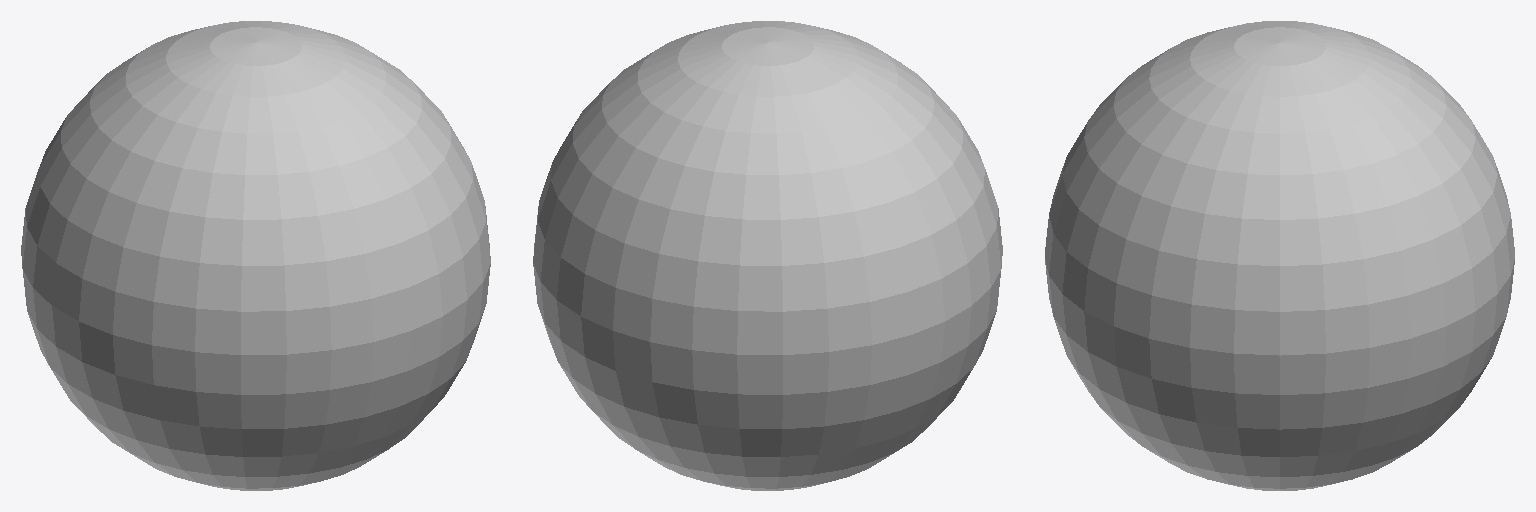
Rendered from lightSphere.obj.
The picture shows the model from 3 angles: view 1: azimuth 30°, elevation 25°; view 2: azimuth 150°, elevation 25°; view 3: azimuth 270°, elevation 25°; orthographic projection.
Visible parts, largest first — view 1: Sphere; view 2: Sphere; view 3: Sphere.
Part boxes in pixels (x1,y1,x2,y2): Sphere: (21, 21, 490, 490); Sphere: (533, 21, 1002, 490); Sphere: (1045, 21, 1514, 490).
Size of the model in its own units: 2 by 2 by 2.